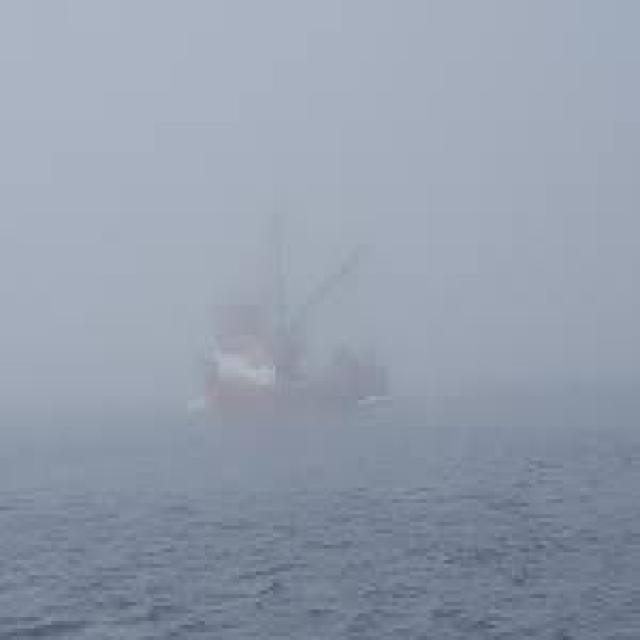cargoship: (194, 238, 388, 417)
